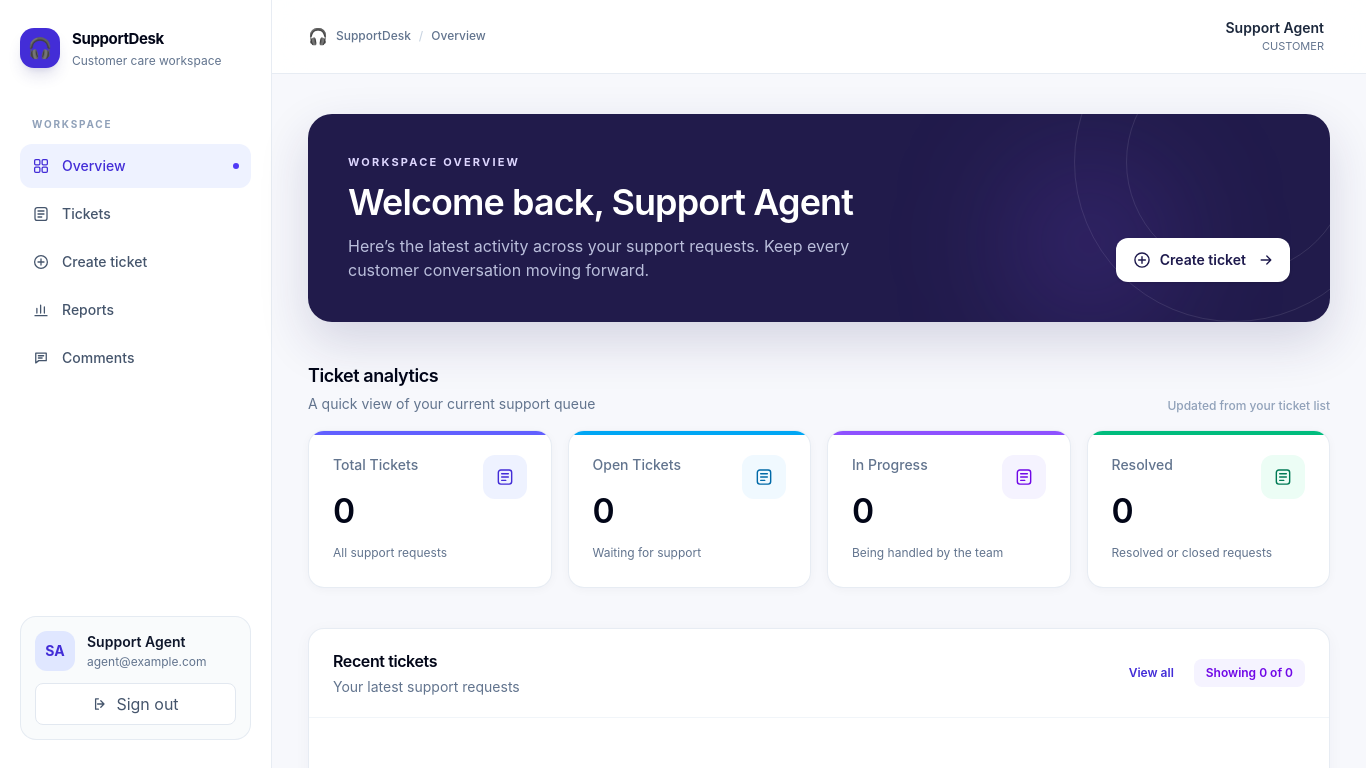
it: SupportDesk frontend foundation › opens a distinct full ticket directory from the Tickets navigation
This screenshot has width=1366, height=768.
Click the link "Tickets". click: [71, 214]
box: [32,204,111,222]
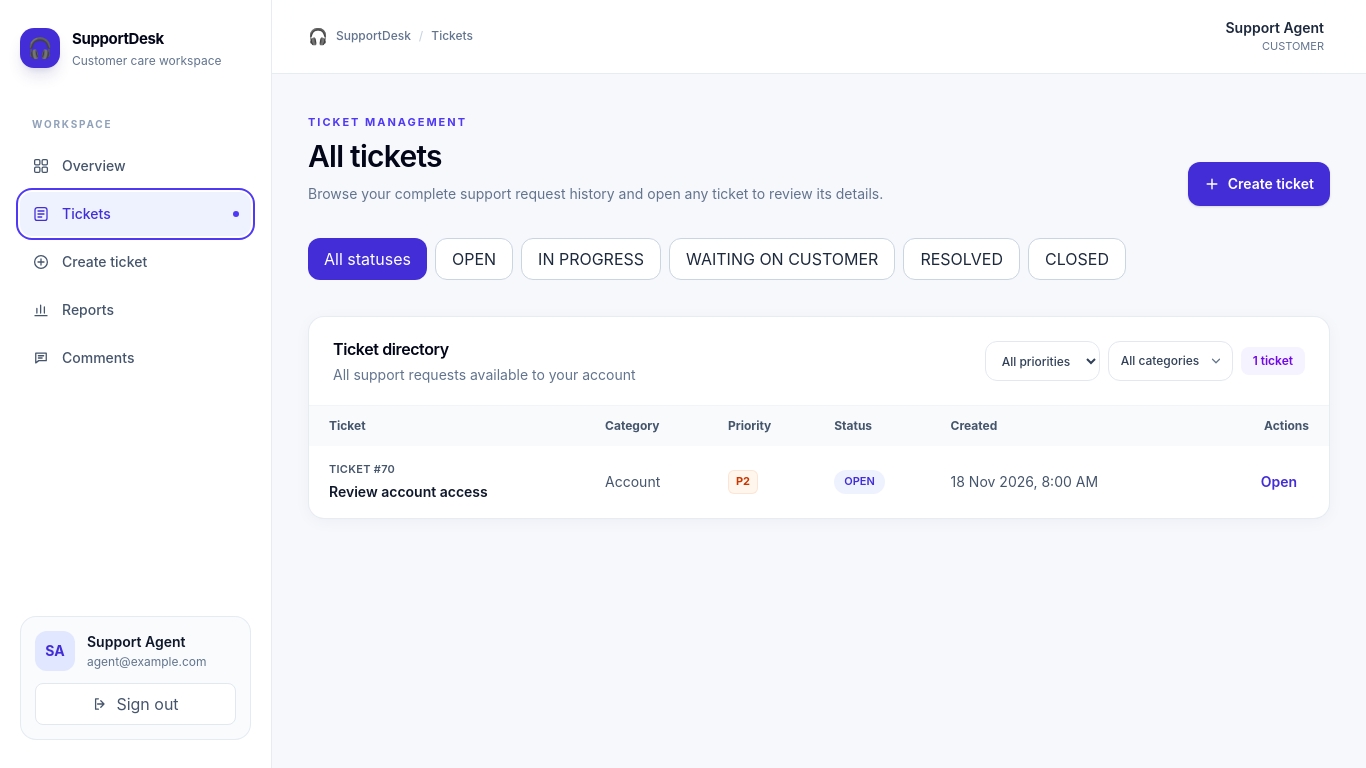
Expected: the heading "Ticket directory" is shown, [333,339,449,359]
Expected: the heading "Ticket analytics" is gone
